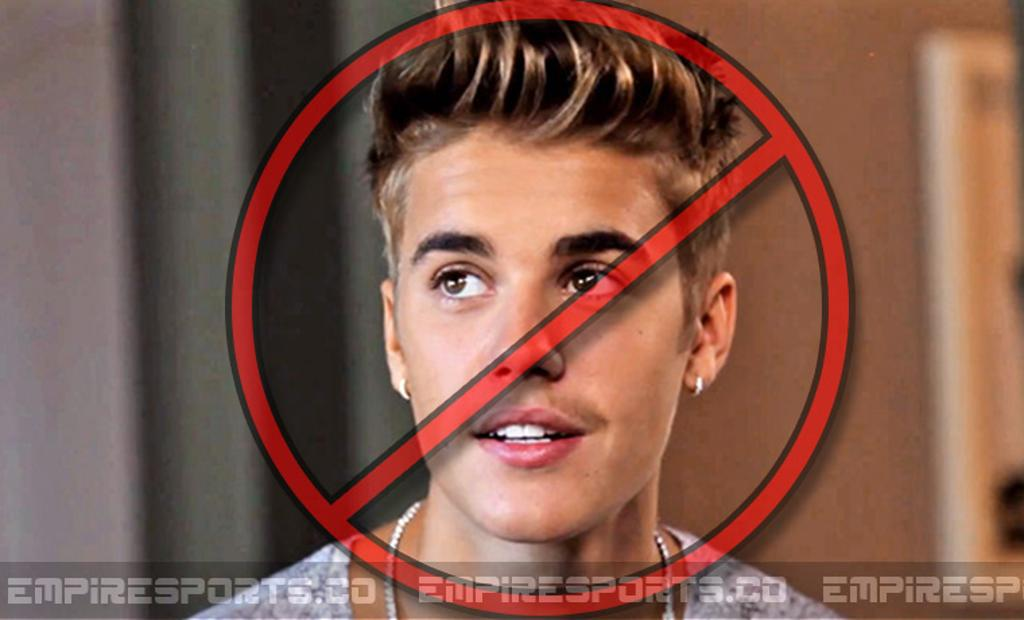face: (393, 99, 691, 539)
